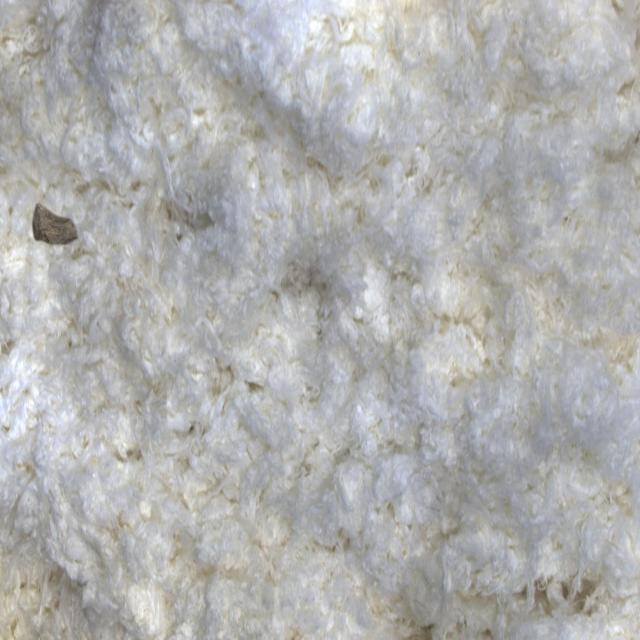dust: (2, 146, 106, 290)
